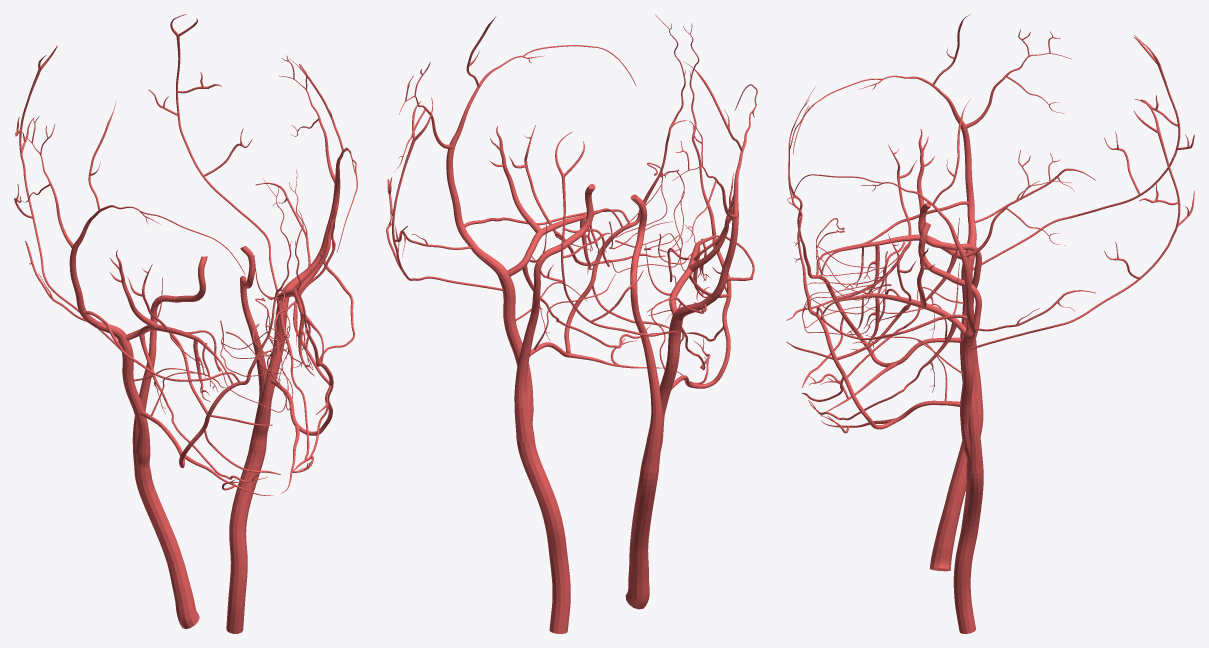
The model's file is arterias.glb.
The picture shows the model from 3 angles, left to right: view 1: azimuth 30°, elevation 25°; view 2: azimuth 150°, elevation 25°; view 3: azimuth 270°, elevation 25°; orthographic projection. The views are drawn at different scales.
Visible parts, largest first — view 1: FMA4058_E, FMA3941_D, superficial_temporal_artery_D, superficial_temporal_artery_E, FMA3949_D, external_carotid_artery_D, FMA4062_E, external_carotid_artery_E, occipital_artery_E, occipital_artery_D, maxillary_artery_D, angular_artery_D (+9 smaller); view 2: FMA4058_E, superficial_temporal_artery_E, FMA3949_D, FMA3941_D, FMA4062_E, superficial_temporal_artery_D, occipital_artery_D, external_carotid_artery_E, occipital_artery_E, external_carotid_artery_D, maxillary_artery_E, facial_artery_D (+5 smaller); view 3: FMA4058_E, superficial_temporal_artery_D, superficial_temporal_artery_E, FMA3941_D, FMA4062_E, occipital_artery_E, occipital_artery_D, FMA3949_D, external_carotid_artery_E, maxillary_artery_E, facial_artery_E, maxillary_artery_D (+2 smaller).
Boxes of the visible parts, <box> form: FMA4058_E: <box>226,446,266,633</box>; FMA3941_D: <box>134,475,199,628</box>; superficial_temporal_artery_D: <box>21,100,160,341</box>; superficial_temporal_artery_E: <box>255,55,355,301</box>; FMA3949_D: <box>132,256,207,478</box>; external_carotid_artery_D: <box>118,340,150,468</box>; FMA4062_E: <box>240,246,267,449</box>; external_carotid_artery_E: <box>252,301,288,440</box>; occipital_artery_E: <box>148,14,278,294</box>; occipital_artery_D: <box>14,45,119,349</box>; maxillary_artery_D: <box>125,324,218,401</box>; angular_artery_D: <box>217,178,293,399</box>; FMA4058_E: <box>516,438,570,633</box>; superficial_temporal_artery_E: <box>393,16,544,279</box>; FMA3949_D: <box>630,194,662,473</box>; FMA3941_D: <box>625,468,658,609</box>; FMA4062_E: <box>514,184,595,441</box>; superficial_temporal_artery_D: <box>647,61,754,322</box>; occipital_artery_D: <box>531,132,677,336</box>; external_carotid_artery_E: <box>499,276,533,428</box>; occipital_artery_E: <box>386,97,503,290</box>; external_carotid_artery_D: <box>647,318,682,450</box>; maxillary_artery_E: <box>507,212,606,276</box>; facial_artery_D: <box>671,273,731,390</box>; FMA4058_E: <box>953,469,983,633</box>; superficial_temporal_artery_D: <box>859,14,1095,259</box>; superficial_temporal_artery_E: <box>861,99,1095,340</box>; FMA3941_D: <box>929,413,983,571</box>; FMA4062_E: <box>918,222,983,473</box>; occipital_artery_E: <box>971,98,1194,349</box>; occipital_artery_D: <box>973,35,1194,269</box>; FMA3949_D: <box>918,202,983,414</box>; external_carotid_artery_E: <box>960,336,973,460</box>; maxillary_artery_E: <box>844,293,966,350</box>; facial_artery_E: <box>826,338,960,429</box>; maxillary_artery_D: <box>844,234,969,298</box>.
Size of the model in its own units: 0.1489 by 0.2898 by 0.1916.
